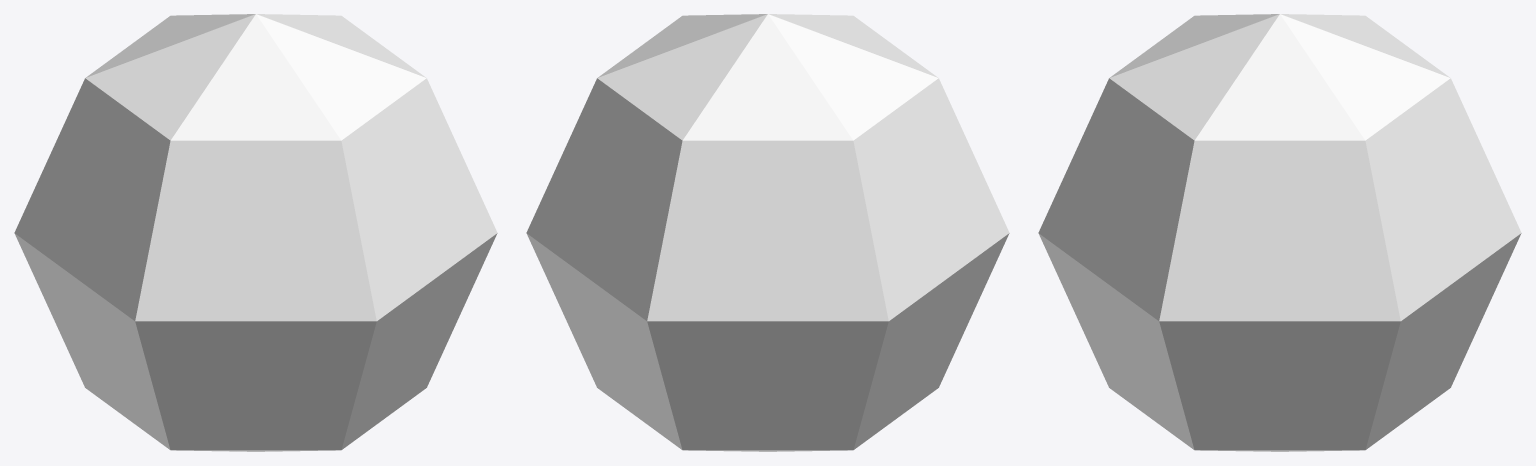
File: pearl.fbx
The picture shows the model from 3 angles, left to right: view 1: azimuth 30°, elevation 25°; view 2: azimuth 150°, elevation 25°; view 3: azimuth 270°, elevation 25°; orthographic projection.
Visible parts, largest first — view 1: Sphere; view 2: Sphere; view 3: Sphere.
Boxes of the visible parts, x1,y1,x2,y2 form: Sphere: (14, 14, 497, 451); Sphere: (526, 14, 1009, 451); Sphere: (1038, 14, 1521, 451).
Size of the model in its own units: 43.3 by 50 by 50.
1 material, 1 textured.
